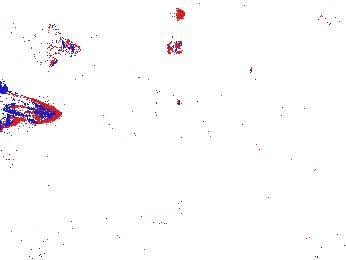X-ray fish: (13, 20, 82, 63)
red belly glassfish: (316, 11, 343, 31)
redtail glassfish: (1, 81, 61, 124)
